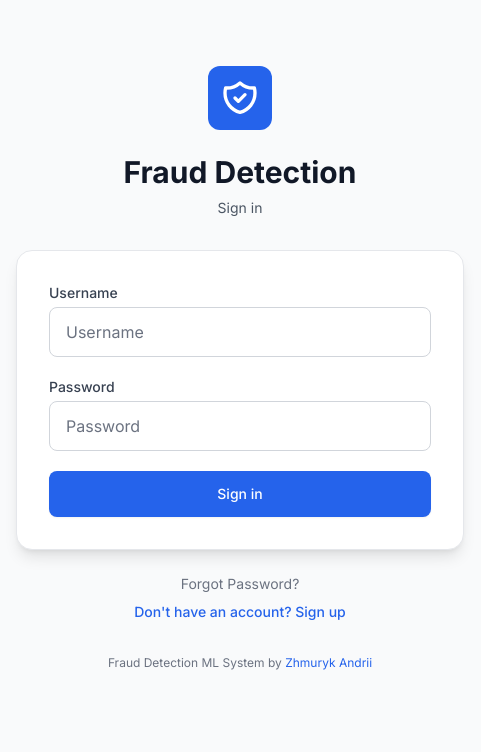
Login Component › Mode Switching › switches back to login from register mode
The width and height of the screenshot is (481, 752).
# Go to register
What coordinates should you click on to do the following:
click the button "Don't have an account? Sign up"
I would click on:
 (240, 612)
Its box is x1=134 y1=602 x2=346 y2=622.
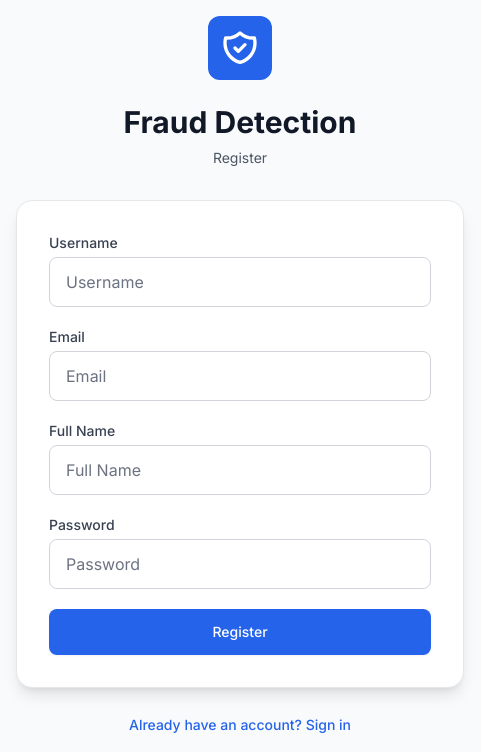
Expected: the field labelled "Email" is shown, x1=49 y1=351 x2=431 y2=401
# Go back to login
What coordinates should you click on to do the following:
click the button "Already have an account? Sign in"
I would click on:
 (240, 725)
Its box is x1=129 y1=715 x2=351 y2=735.
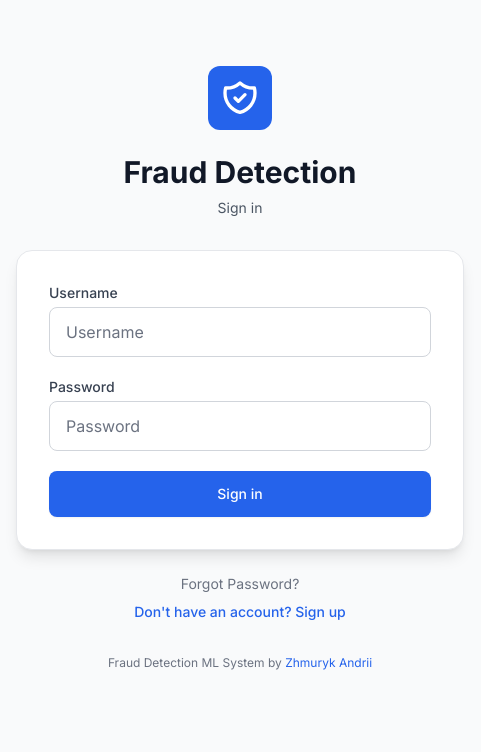
Expected: the label labelled "Email" is gone
